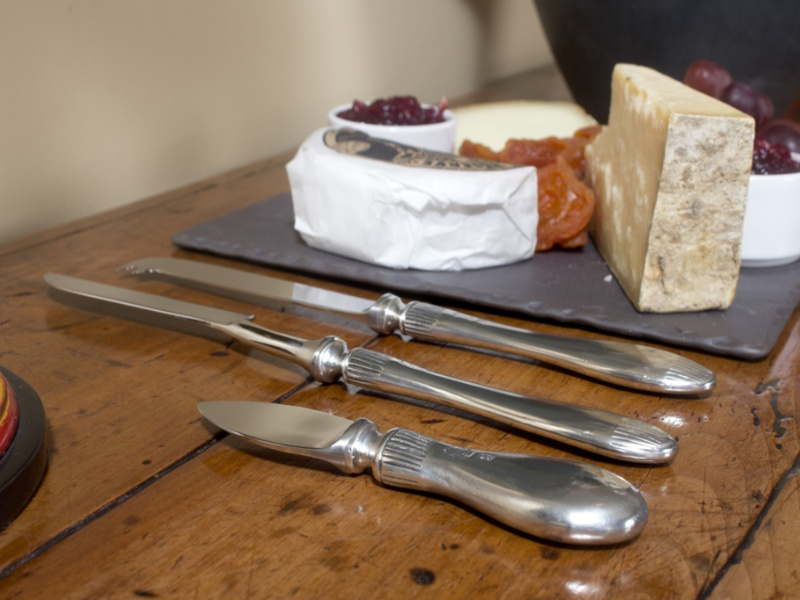knife: (38, 255, 699, 551), (39, 267, 685, 470), (112, 248, 720, 405), (193, 394, 654, 555)
